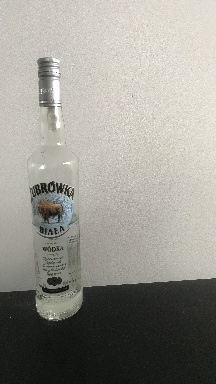butelka: (25, 53, 84, 324)
